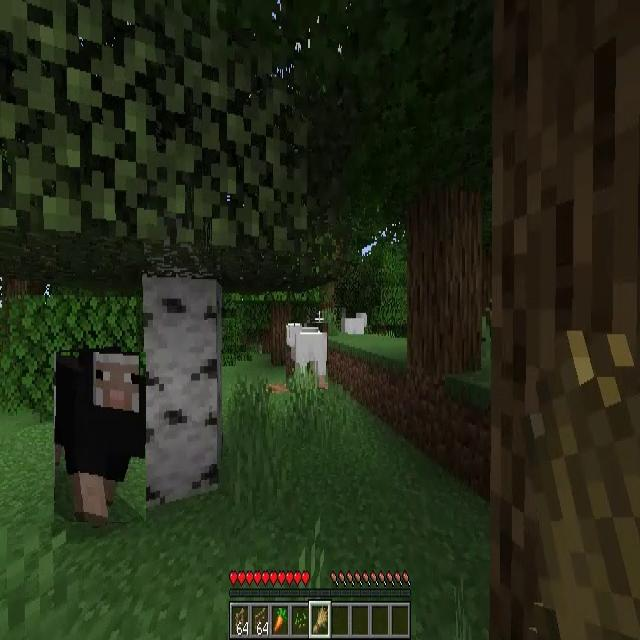sheep: (54, 352, 146, 522), (286, 323, 328, 389), (342, 314, 367, 334)
